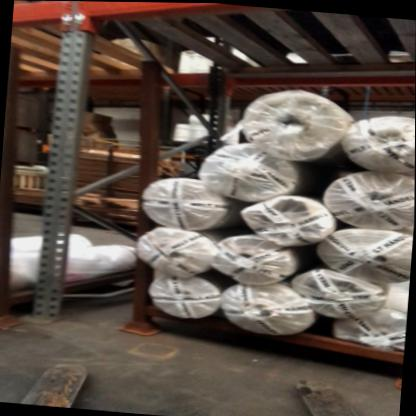vertical_damage: (21, 298, 68, 335)
